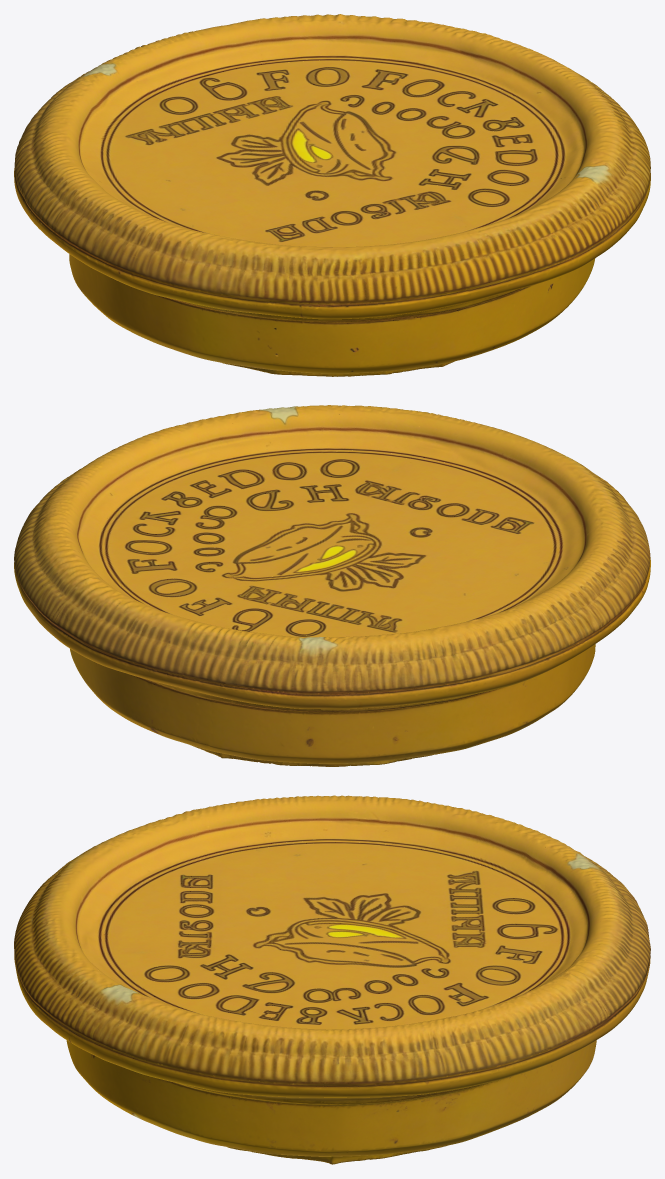
The model's file is cap.glb.
3 renders of one model, top to bottom at view 1: azimuth 30°, elevation 25°; view 2: azimuth 150°, elevation 25°; view 3: azimuth 270°, elevation 25°, orthographic.
Size of the model in its own units: 2 by 0.5453 by 1.99.
Materials: 1 (1 with a texture image).
